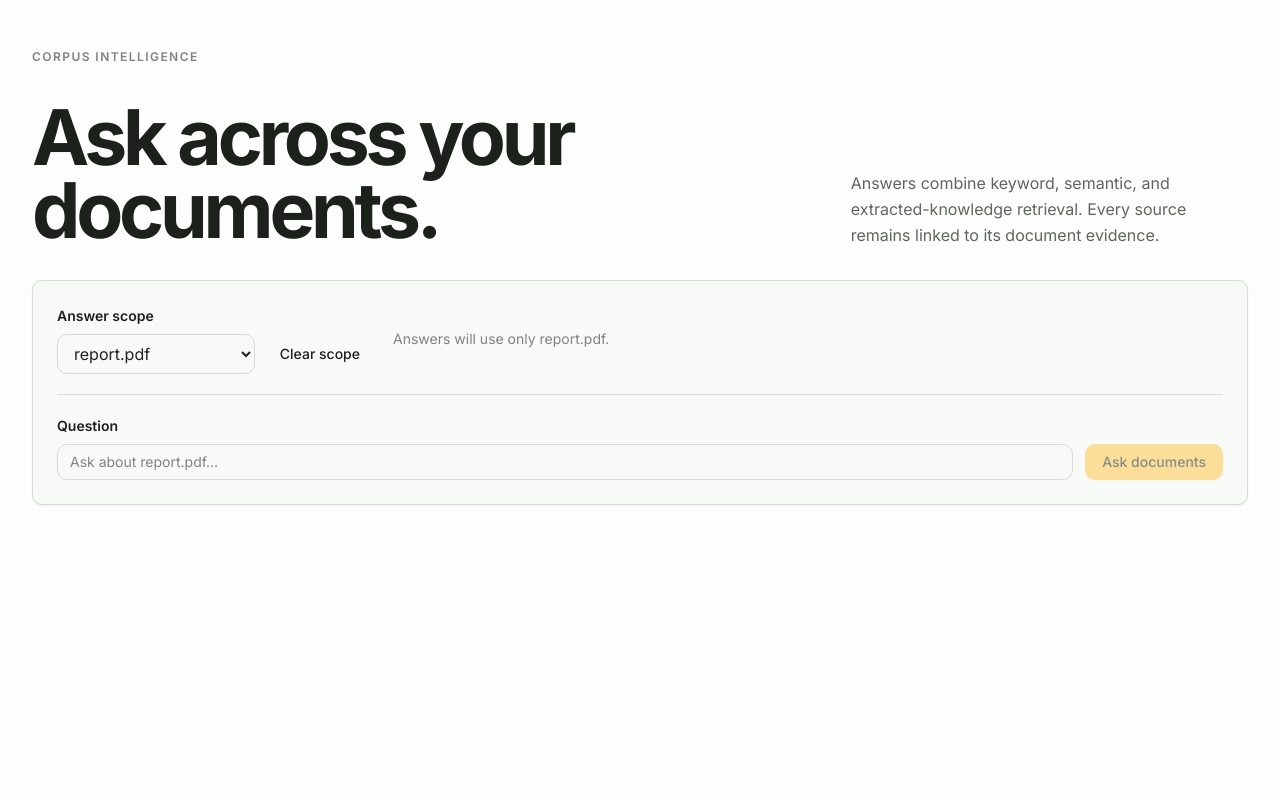
uses the document from the URL as a strict query scope
Expected: the text "Answers will use only report.pdf." is shown, [393,330,609,347]
Expected: the dropdown labelled "Answer scope" shows "report.pdf", [57,334,255,374]
Type "What changed?" into the field labelled "Question". click: x=565, y=462
box: [57,444,1073,480]
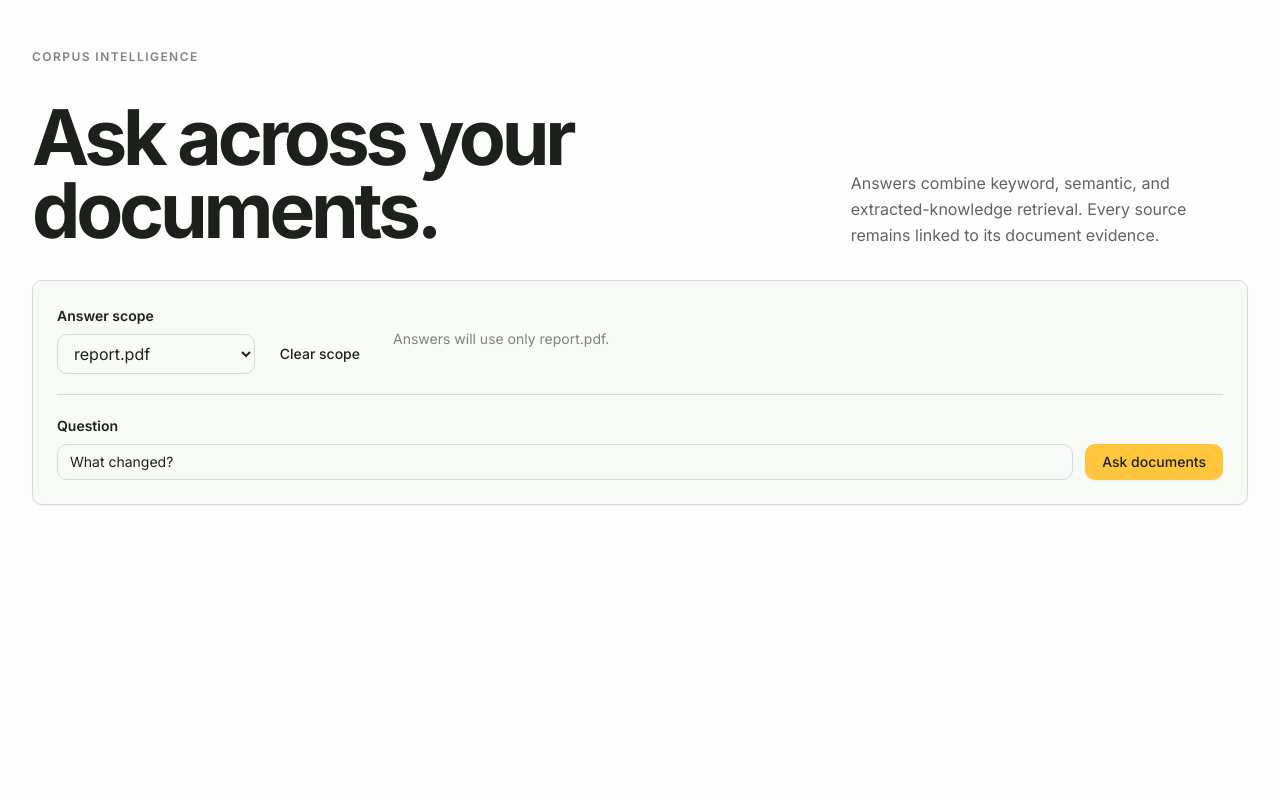
Click the button "Ask documents". click: x=1154, y=462
box: [1085,444,1223,480]
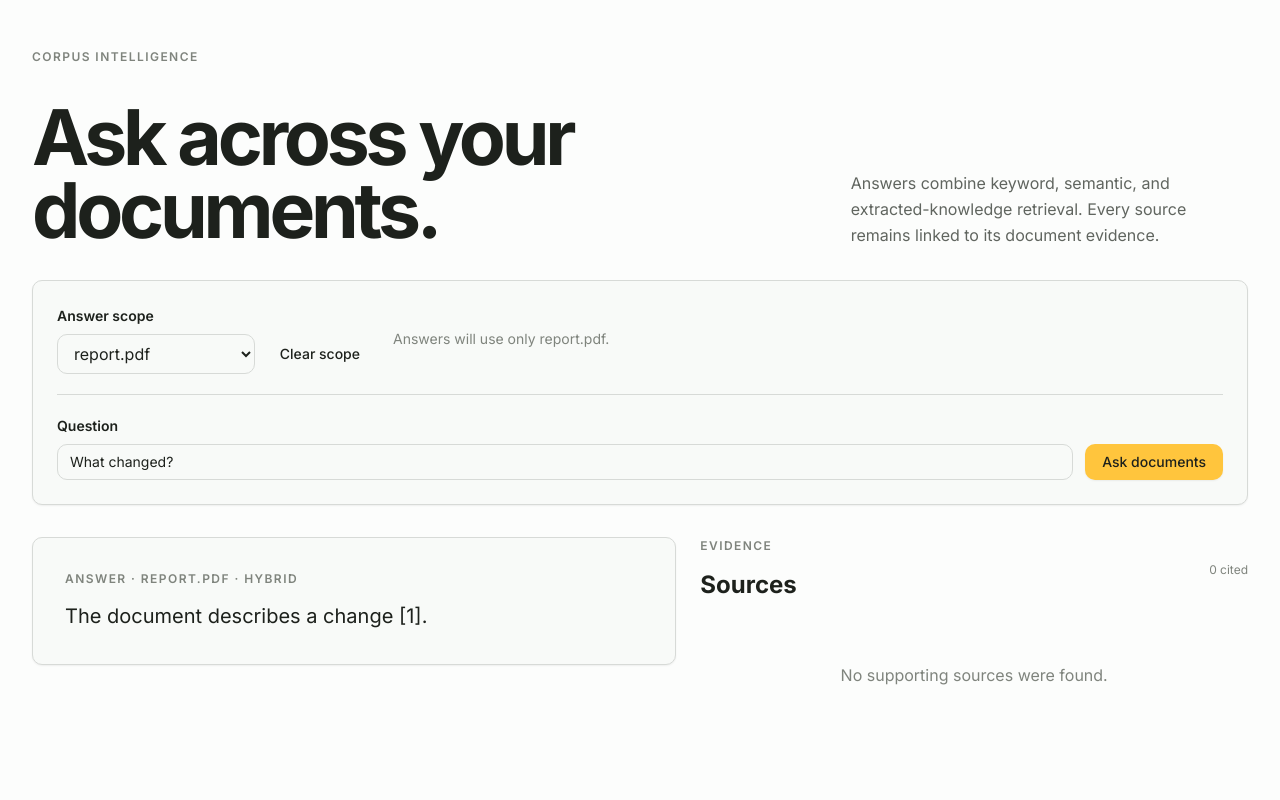
Click the button "Clear scope". click: x=320, y=354
box: [263,334,377,374]
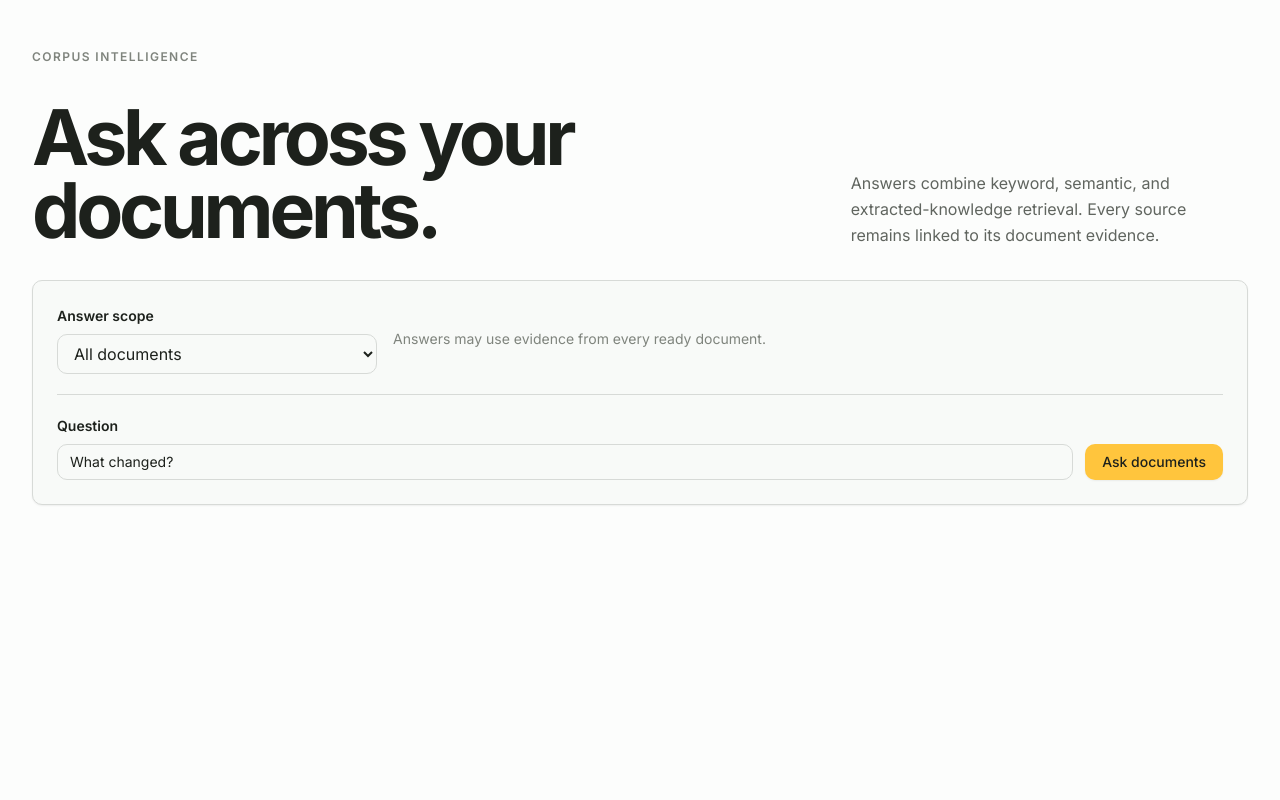
Now the dropdown labelled "Answer scope" shows "All documents", box [57,334,377,374]
Now the text "Answers may use evidence from every ready document." is shown, box [393,330,766,347]
